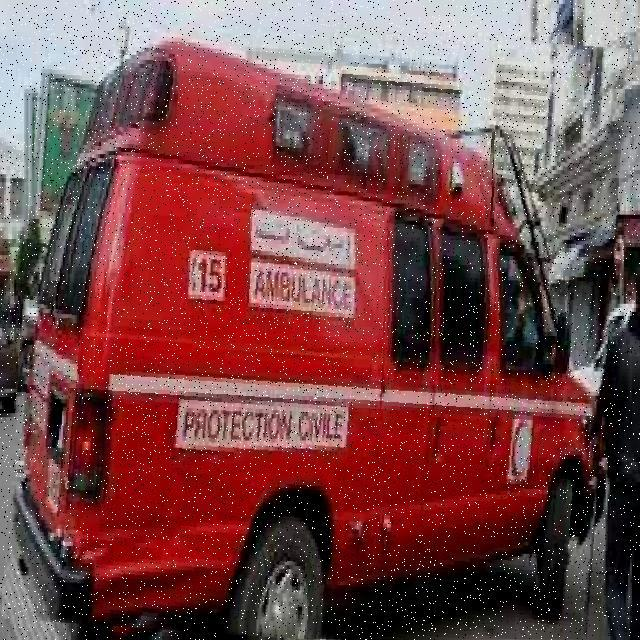ambulance: (11, 18, 618, 640)
